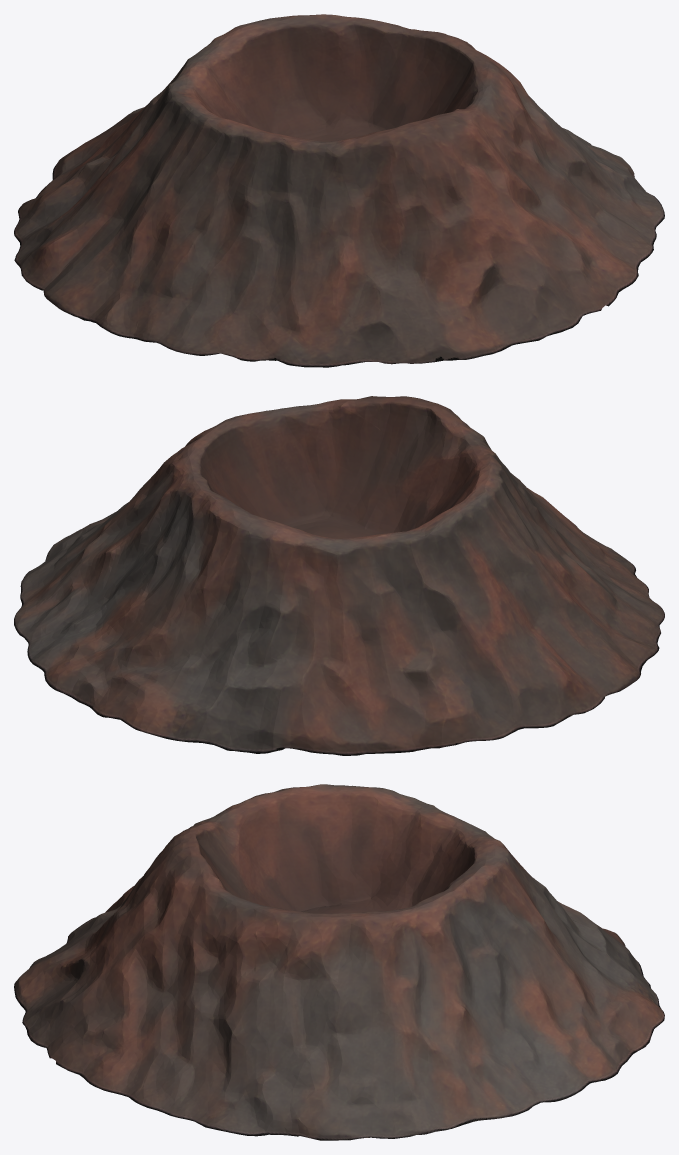
The picture shows the model from 3 angles, top to bottom: view 1: azimuth 30°, elevation 25°; view 2: azimuth 150°, elevation 25°; view 3: azimuth 270°, elevation 25°; orthographic projection.
Parts seen in each view (by area): view 1: world; view 2: world; view 3: world.
Boxes of the visible parts, left/top/right/bottom form: world: left=14, top=14, right=664, bottom=367; world: left=14, top=396, right=664, bottom=755; world: left=14, top=784, right=664, bottom=1140.
Bounding box in the file's own units: 1 × 0.2781 × 0.9946.
1 material, 1 textured.
